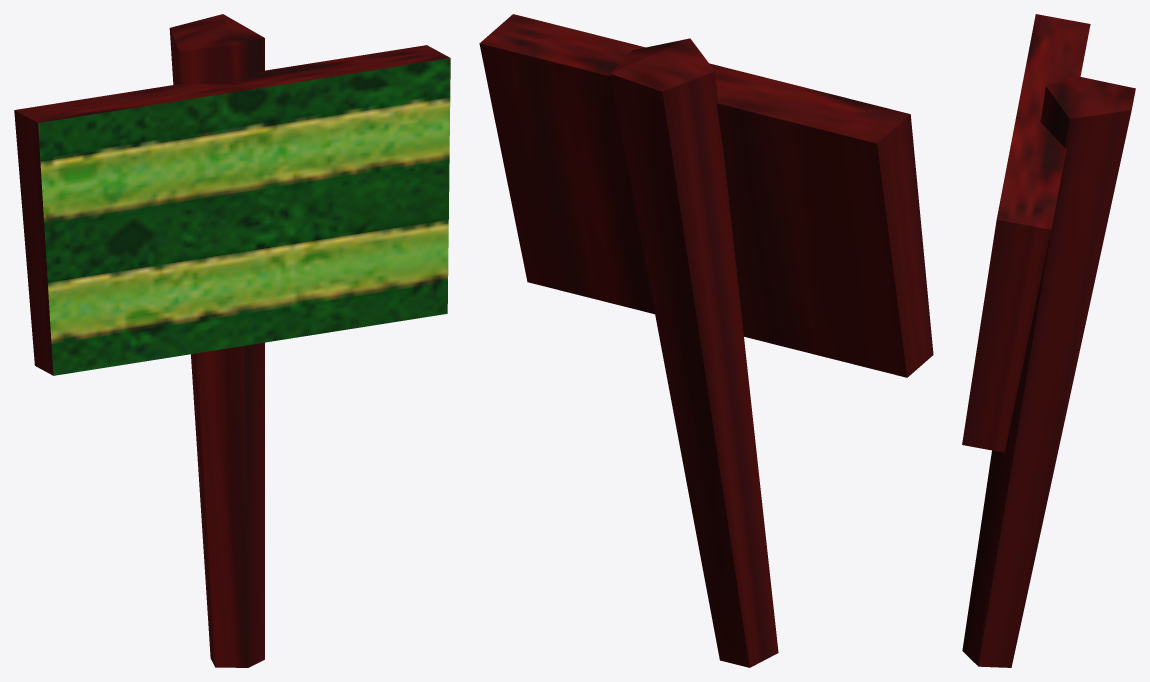
File: SignGreenStripe.gltf
3 views of the same model, side by side, from view 1: azimuth 30°, elevation 25°; view 2: azimuth 150°, elevation 25°; view 3: azimuth 270°, elevation 25° (orthographic). The views are drawn at different scales.
Parts seen in each view (by area): view 1: SignGreenStripeMesh; view 2: SignGreenStripeMesh; view 3: SignGreenStripeMesh.
Boxes of the visible parts, x1,y1,x2,y2 form: SignGreenStripeMesh: (14, 14, 450, 667); SignGreenStripeMesh: (479, 14, 933, 667); SignGreenStripeMesh: (962, 14, 1135, 667).
Bounding box in the file's own units: 1.67 × 2.38 × 0.6383.
Materials: 1 (1 with a texture image).
